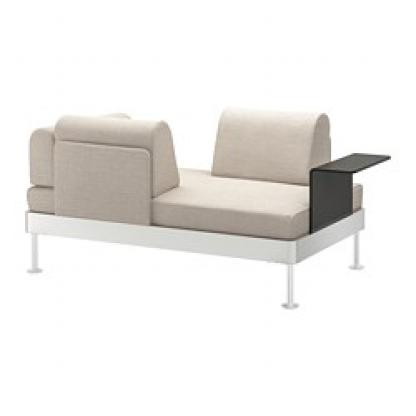Sofa: (17, 76, 394, 313)
